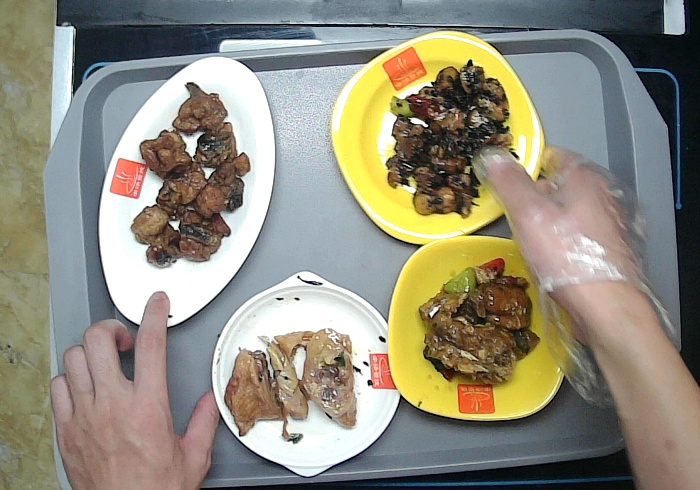SHKJ-Bao_Yu_Pan: (210, 271, 402, 475)
SHKJ-Huang_Se_Cai_Die: (387, 236, 569, 420)
SHKJ-Huang_Se_Si_Fang_Cai_Die: (332, 31, 546, 245)
SHKJ-Yu_Pan: (98, 56, 277, 330)
